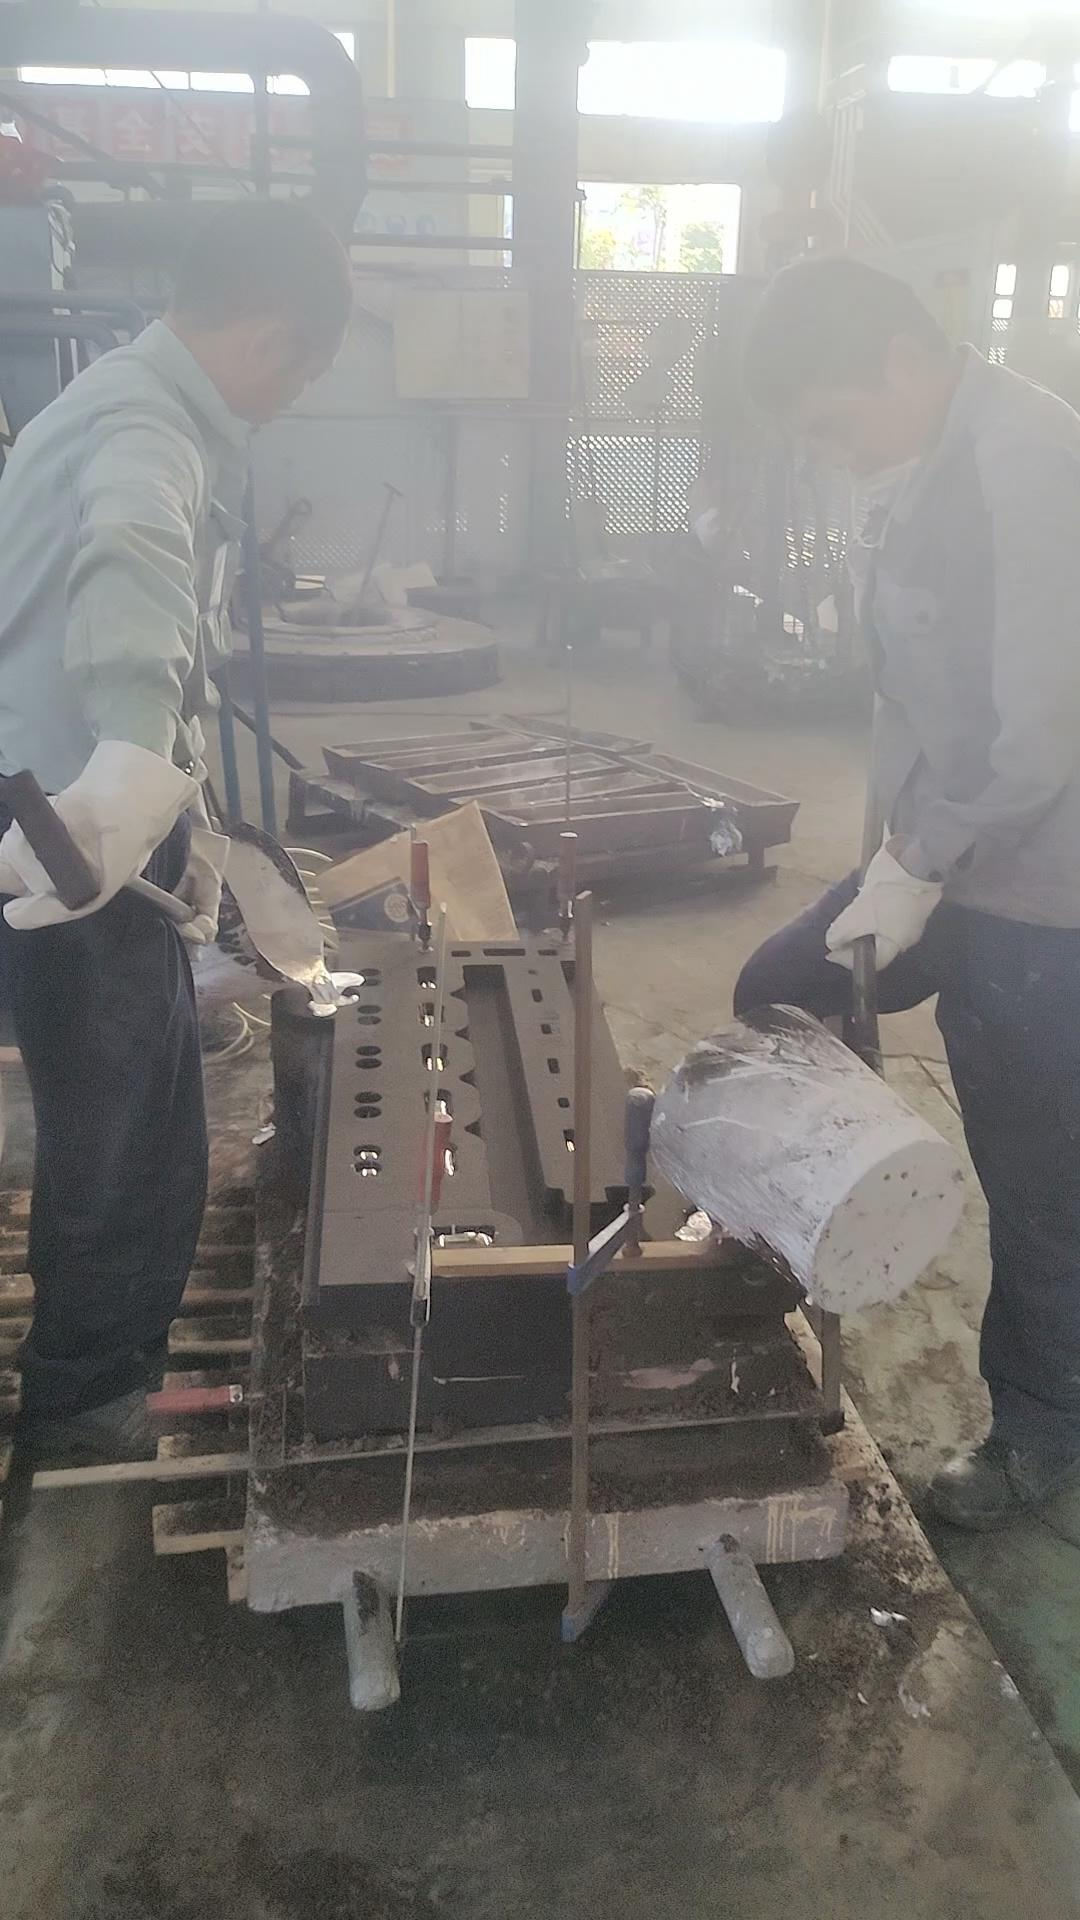pouring hole: (676, 1204, 744, 1241), (302, 986, 361, 1010)
